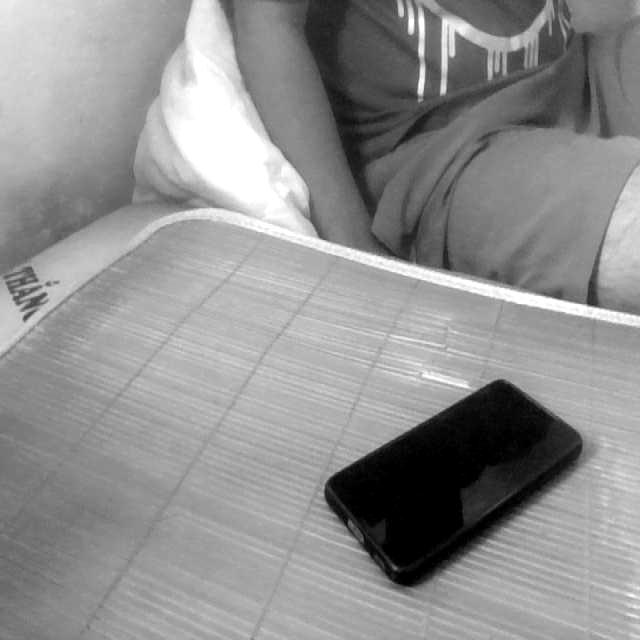phone: (309, 341, 589, 610)
